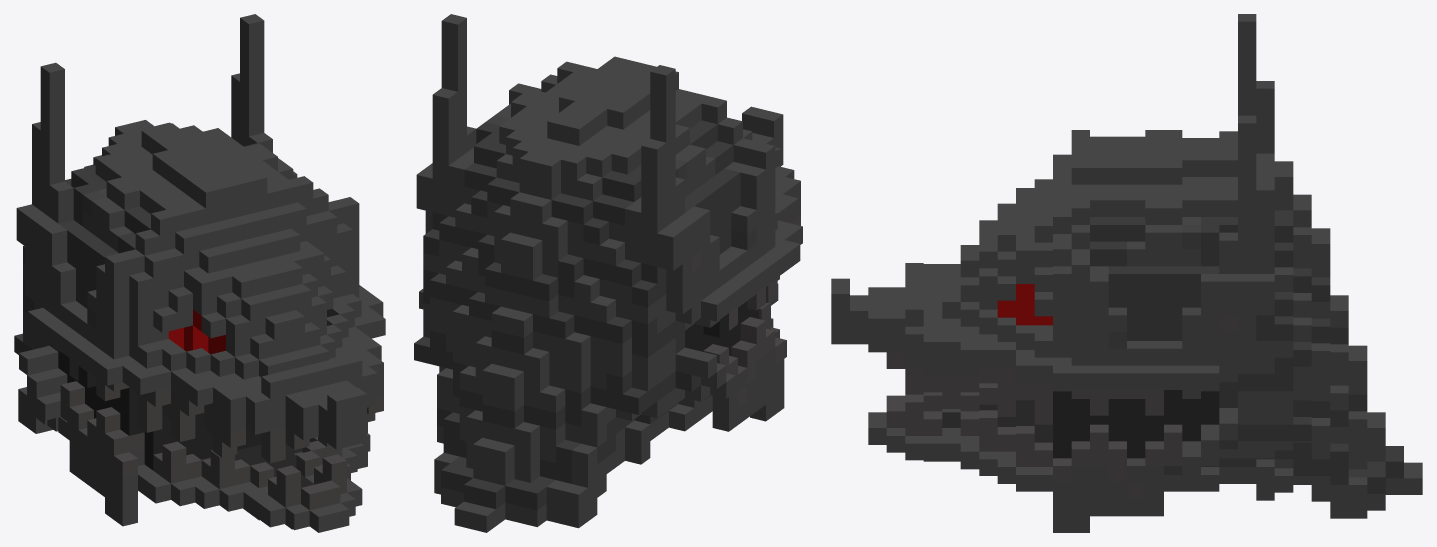
Rendered from berserk.glb.
The picture shows the model from 3 angles, left to right: view 1: azimuth 30°, elevation 25°; view 2: azimuth 150°, elevation 25°; view 3: azimuth 270°, elevation 25°; orthographic projection. The views are drawn at different scales.
Parts seen in each view (by area): view 1: berserk; view 2: berserk; view 3: berserk.
Boxes of the visible parts, x1,y1,x2,y2 form: berserk: (14, 14, 385, 532); berserk: (414, 14, 802, 532); berserk: (831, 14, 1422, 532).
Size of the model in its own units: 0.774 by 1.08 by 1.38.
1 material, 1 textured.
